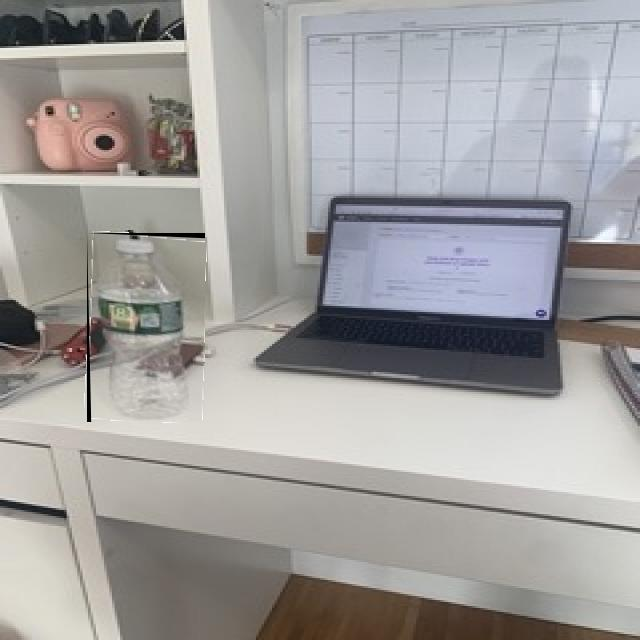water_bottle: (87, 233, 205, 422)
